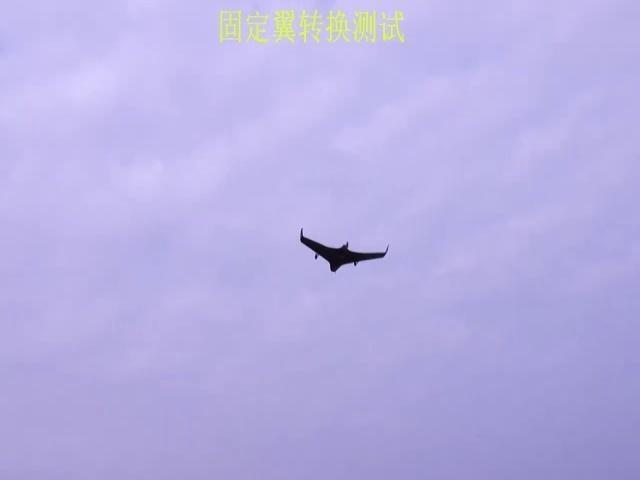Airplane: (299, 227, 390, 273)
